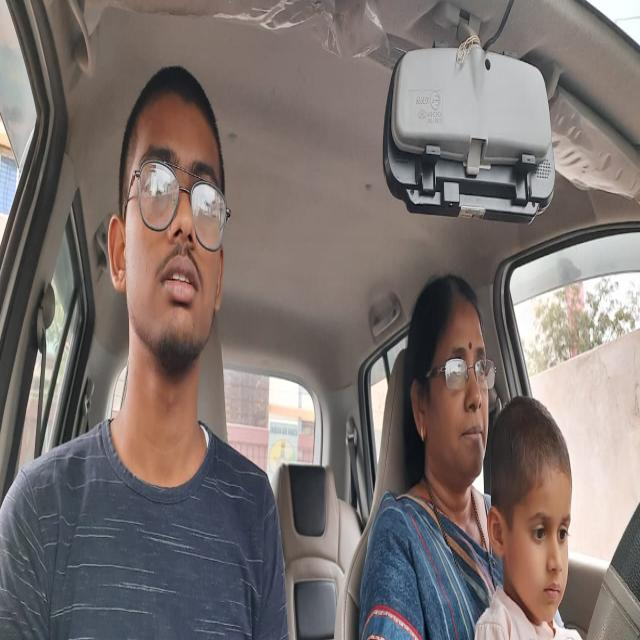child: (490, 432, 573, 620)
person: (118, 61, 229, 367), (415, 279, 490, 480)
